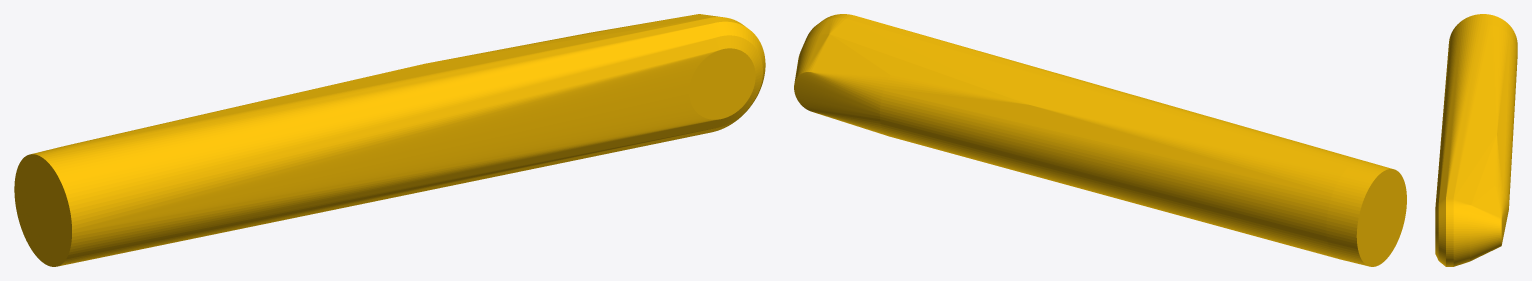
3 views of the same model, side by side, from view 1: azimuth 30°, elevation 25°; view 2: azimuth 150°, elevation 25°; view 3: azimuth 270°, elevation 25° (orthographic). The views are drawn at different scales.
Parts seen in each view (by area): view 1: link_4.001; view 2: link_4.001; view 3: link_4.001.
Part boxes in pixels (bbox=[...]): link_4.001: bbox=[14, 14, 765, 266]; link_4.001: bbox=[794, 14, 1406, 266]; link_4.001: bbox=[1435, 14, 1517, 266].
Bounding box in the file's own units: 1.12 × 0.1942 × 0.169.
